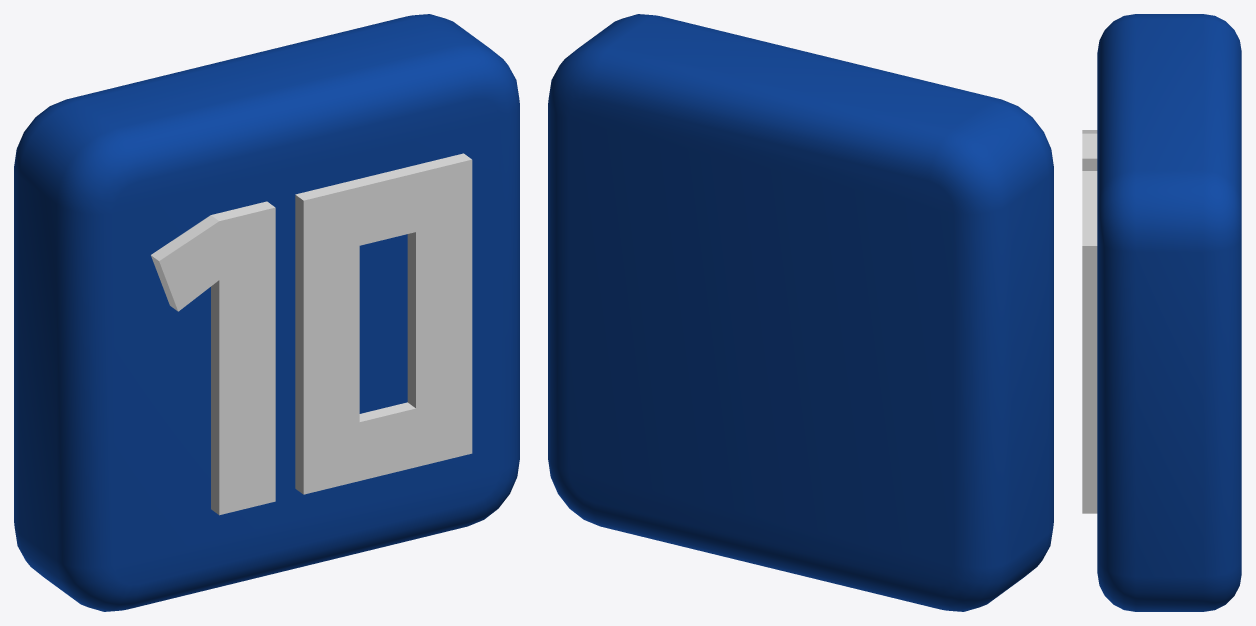
The model's file is keycap_10.glb.
3 views of the same model, side by side, from view 1: azimuth 30°, elevation 25°; view 2: azimuth 150°, elevation 25°; view 3: azimuth 270°, elevation 25° (orthographic). The views are drawn at different scales.
Parts seen in each view (by area): view 1: Cube.6588, Cube.6471; view 2: Cube.6588; view 3: Cube.6588, Cube.6471.
Boxes of the visible parts, x1,y1,x2,y2 form: Cube.6588: [14, 14, 519, 611]; Cube.6471: [151, 153, 472, 515]; Cube.6588: [548, 14, 1053, 611]; Cube.6588: [1097, 14, 1241, 611]; Cube.6471: [1082, 130, 1097, 513].
Size of the model in its own units: 2.2 by 2.2 by 0.73.
1 material, 1 textured.
